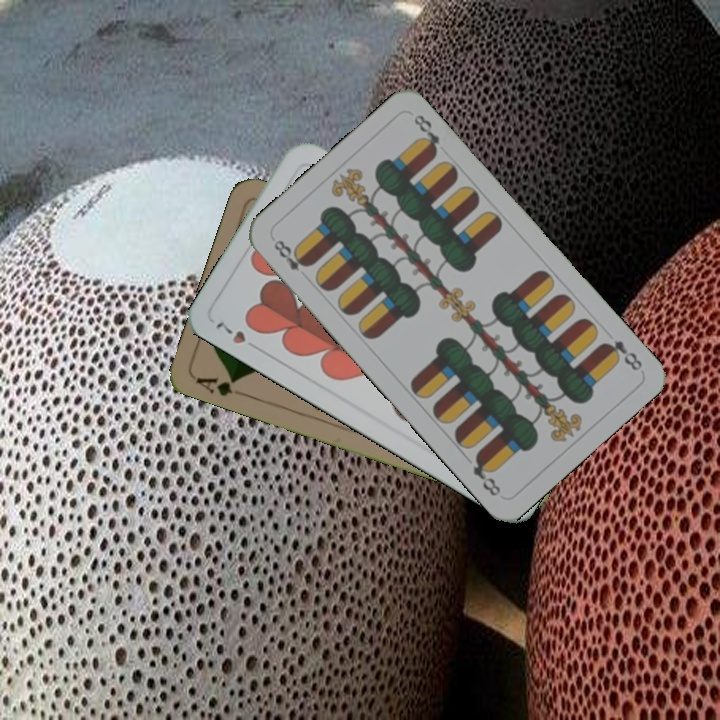E8: (597, 335, 645, 374), (268, 234, 313, 275)
GA: (191, 372, 250, 400)
H7: (211, 316, 263, 354)
